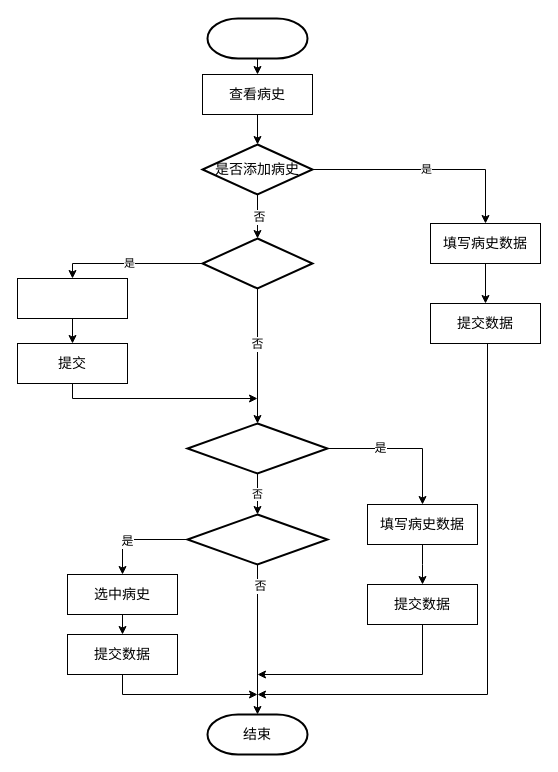
Image size: 558x772. Some labels were removed from this diagram. The box of each missing label's shape, as (x1, y1, x2, y2) in pixels:
开始: (206, 17, 308, 59)
是否修改病史: (186, 422, 328, 474)
是否删除病史: (186, 513, 328, 565)
是否查询病史: (201, 237, 313, 289)
输入查询信息: (16, 278, 128, 318)
